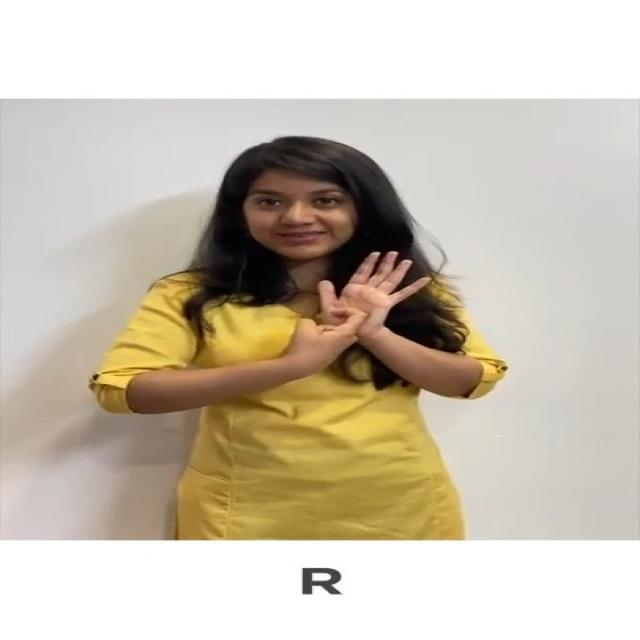R: (282, 243, 439, 377)
